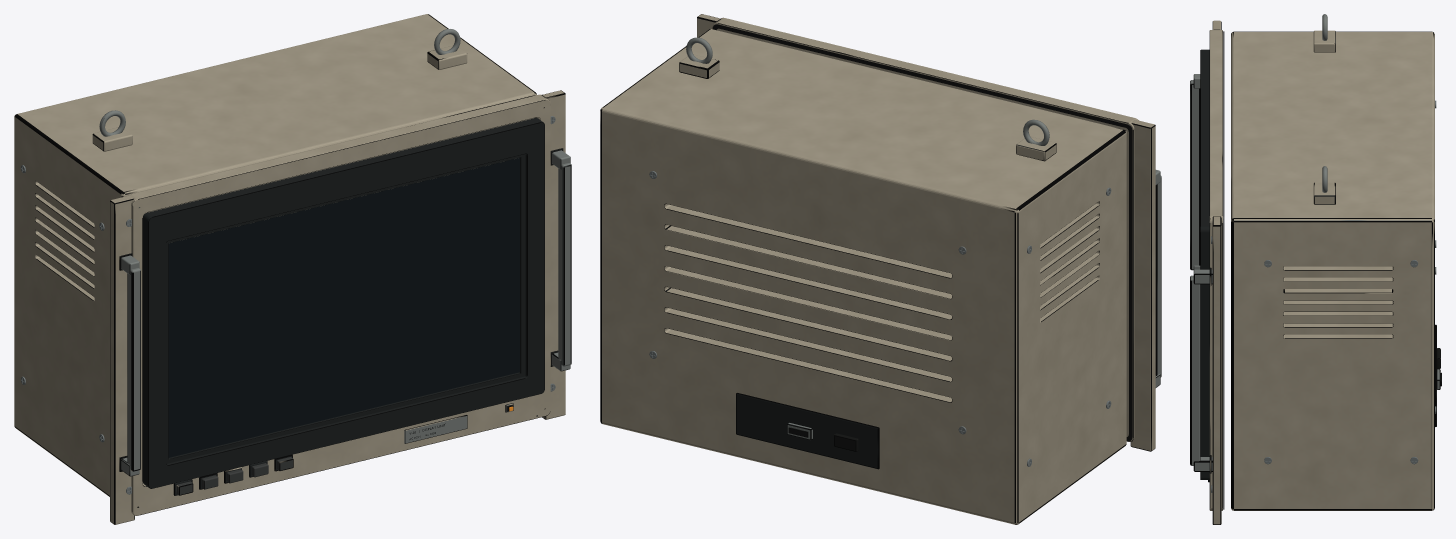
Rendered from SM_L_TV_Steel.gltf.
3 renders of one model, left to right at view 1: azimuth 30°, elevation 25°; view 2: azimuth 150°, elevation 25°; view 3: azimuth 270°, elevation 25°, orthographic. The views are drawn at different scales.
Parts seen in each view (by area): view 1: SM_L_TV_Steel_Relief03__Body, SM_L_TV_Steel_Relief03__Screen; view 2: SM_L_TV_Steel_Relief03__Body; view 3: SM_L_TV_Steel_Relief03__Body.
Boxes of the visible parts, x1=… form: SM_L_TV_Steel_Relief03__Body: x1=14, y1=14, x2=571, y2=524; SM_L_TV_Steel_Relief03__Screen: x1=168, y1=158, x2=519, y2=457; SM_L_TV_Steel_Relief03__Body: x1=600, y1=14, x2=1161, y2=524; SM_L_TV_Steel_Relief03__Body: x1=1190, y1=14, x2=1441, y2=524.
Size of the model in its own units: 1.08 by 0.816 by 0.5605.
10 materials, 8 textured.
